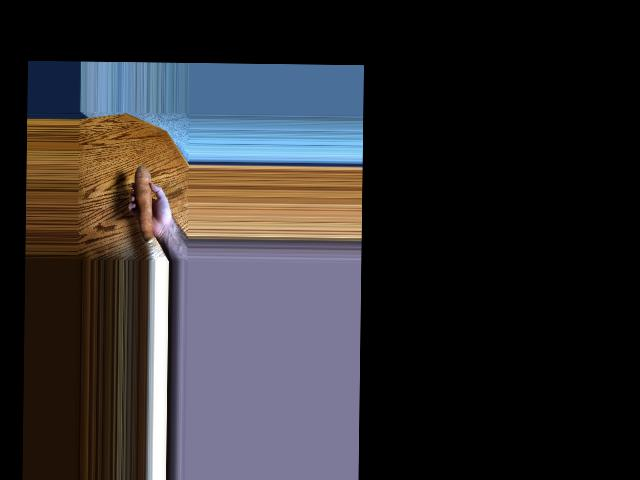sweet_potato: (128, 162, 152, 240)
